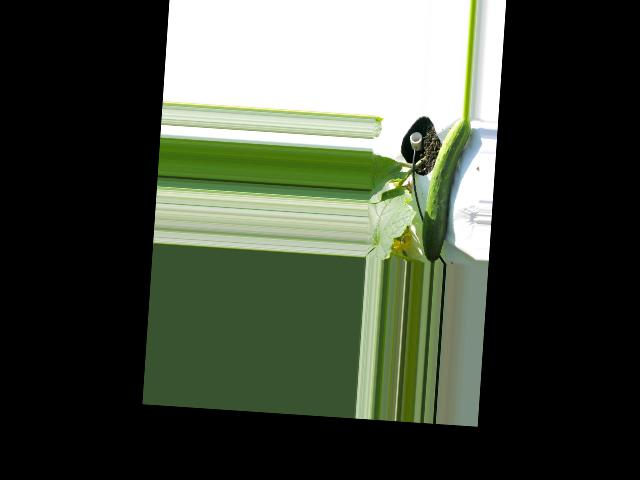cucumber: (420, 114, 471, 264)
